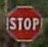stop: (5, 5, 42, 41)
